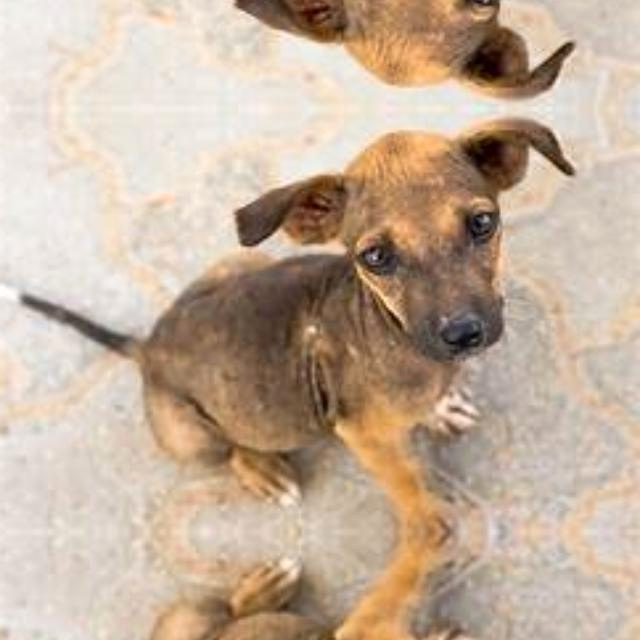dog: (62, 120, 536, 531), (62, 530, 536, 640), (62, 0, 536, 95)
